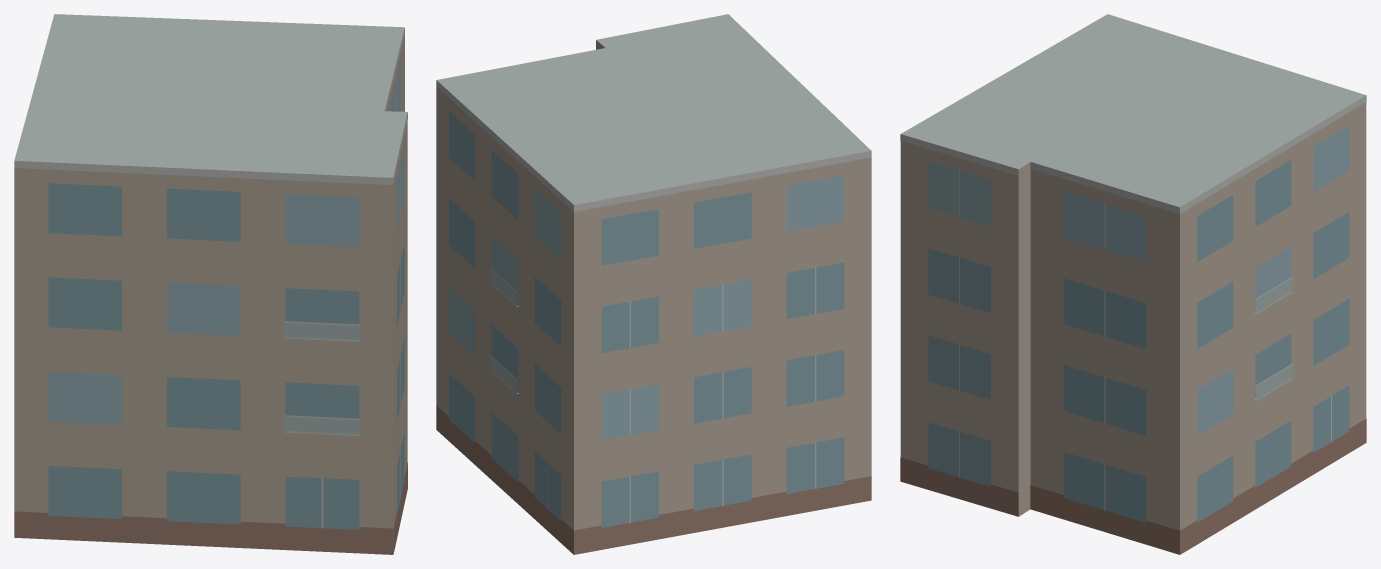
File: survey-upis-32860718.glb
3 renders of one model, left to right at view 1: azimuth 30°, elevation 25°; view 2: azimuth 150°, elevation 25°; view 3: azimuth 270°, elevation 25°, orthographic. The views are drawn at different scales.
Visible parts, largest first — view 1: survey-upis-32860718.tmp; view 2: survey-upis-32860718.tmp; view 3: survey-upis-32860718.tmp.
Part boxes in pixels (x1,y1,x2,y2): survey-upis-32860718.tmp: (14,14,407,554); survey-upis-32860718.tmp: (436,14,871,554); survey-upis-32860718.tmp: (900,14,1366,554).
Bounding box in the file's own units: 15.14 × 12.68 × 15.42.
